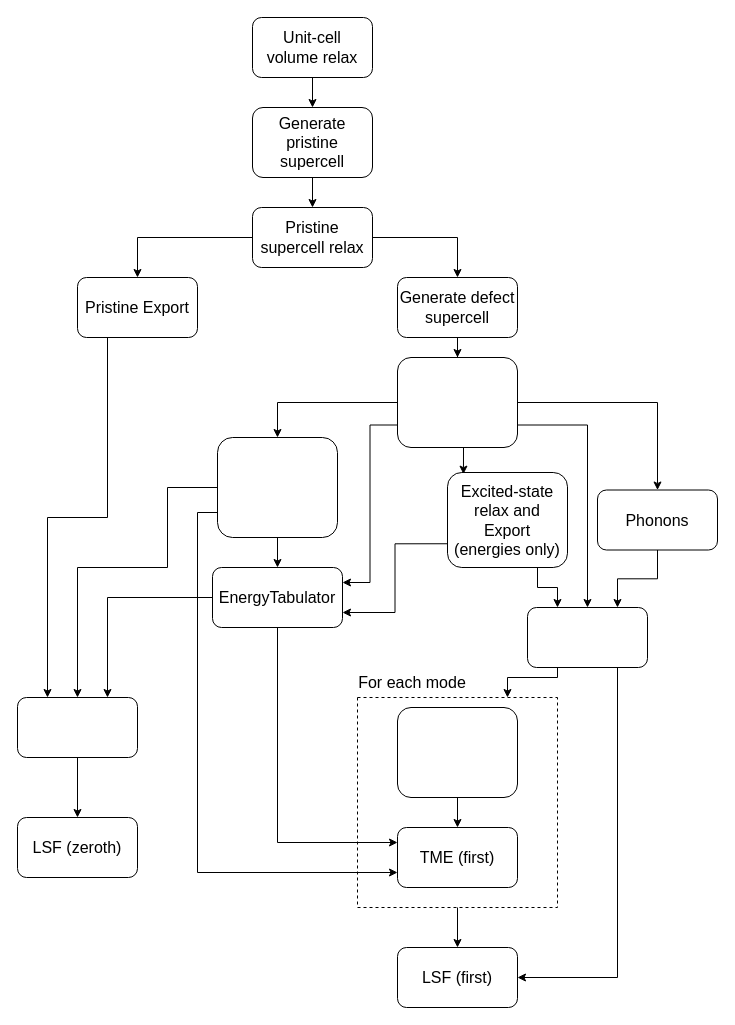
The diagram is 735 pixels wide and 1025 high, and some of its shapes have lost their labels. Each missing label, with the centre of its shape:
"Final charge state at initial positions SCF and Export" goes at point 277,487.
"Final charge state at shifted positions SCF and Export" goes at point 457,752.
"Ground-state relax and Export (energies only)" goes at point 457,402.
"PhononPP" goes at point 587,637.
"TME (zeroth)" goes at point 77,727.
